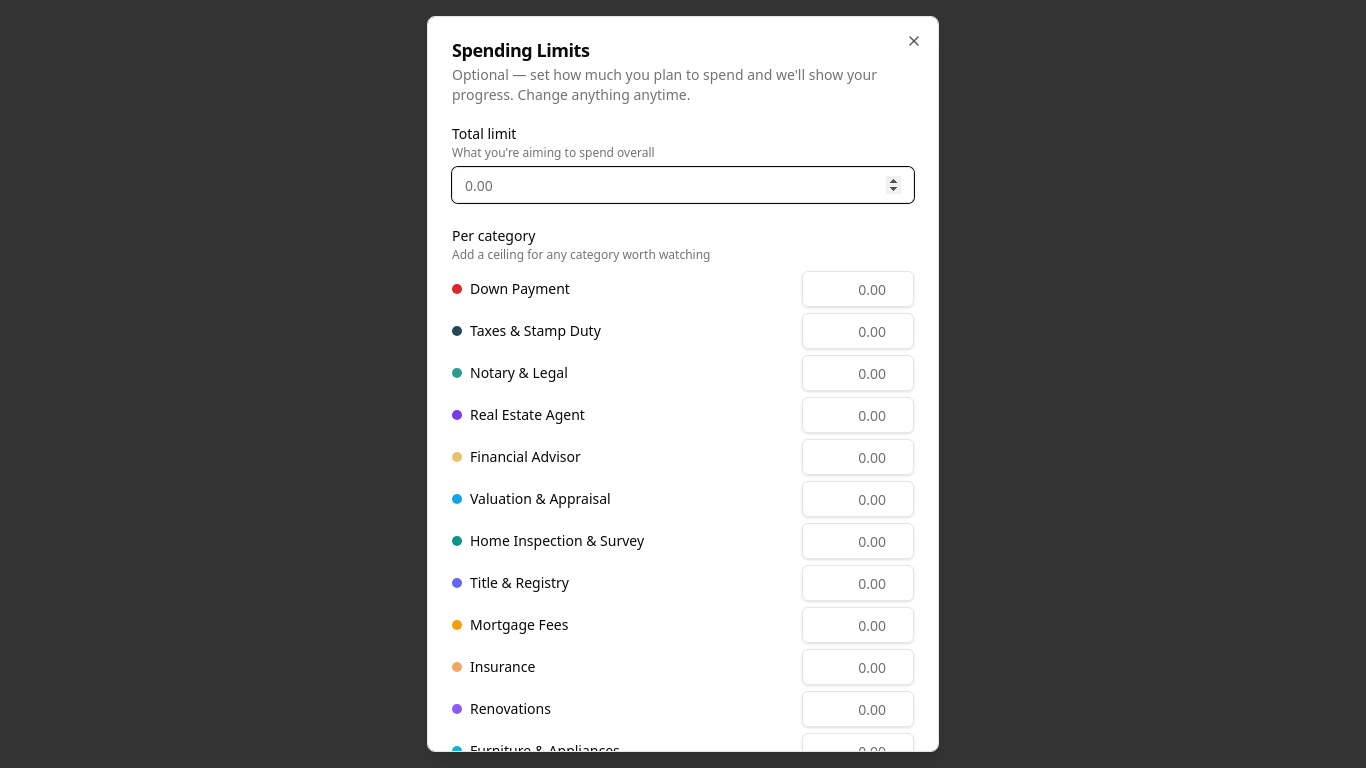
Test case: BudgetSetupDialog › displays error and keeps dialog open on save failure
This screenshot has width=1366, height=768.
Type "1000" into the number field labelled "Total limit".
click(683, 185); type("1000")  # box x1=452 y1=167 x2=914 y2=203
(page scrolled)
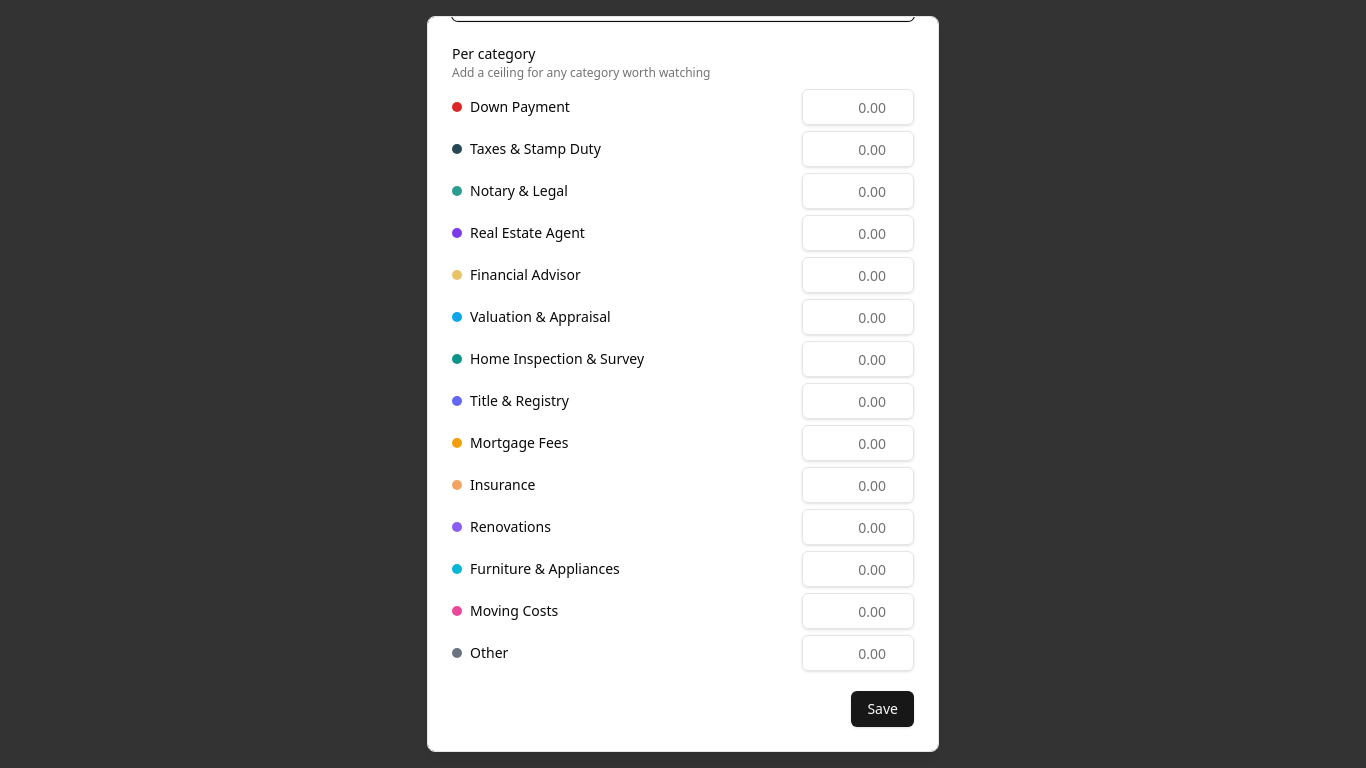
Click the button "Save".
click(883, 709)  # box x1=851 y1=691 x2=914 y2=727
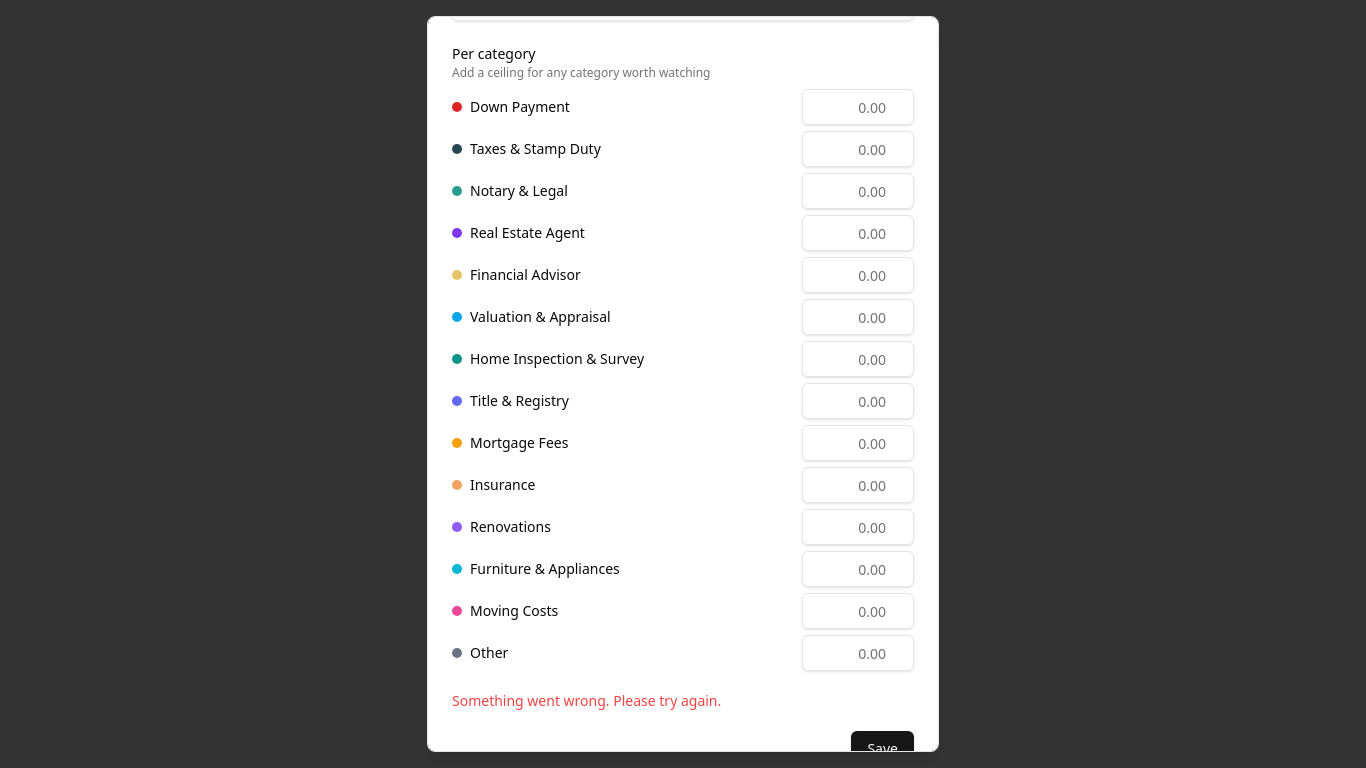
Result: the text "Something went wrong. Please try again." is shown at x1=452 y1=691 x2=721 y2=710
